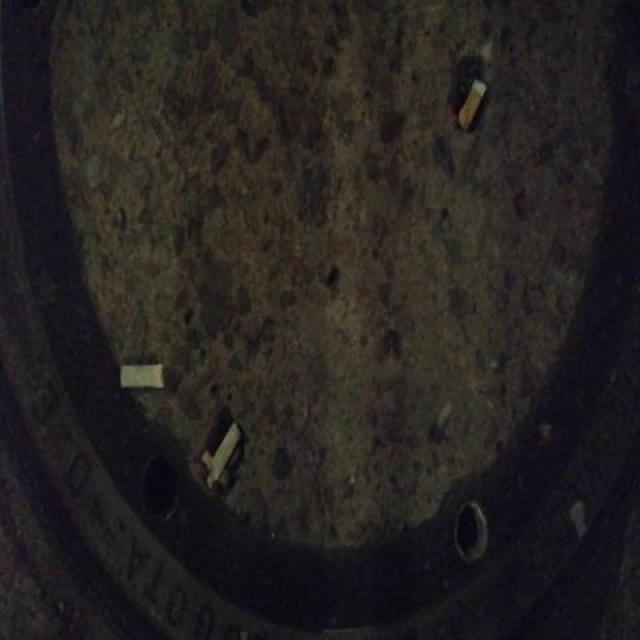non-organic waste: (210, 414, 247, 487), (456, 76, 488, 136), (115, 360, 168, 389)
